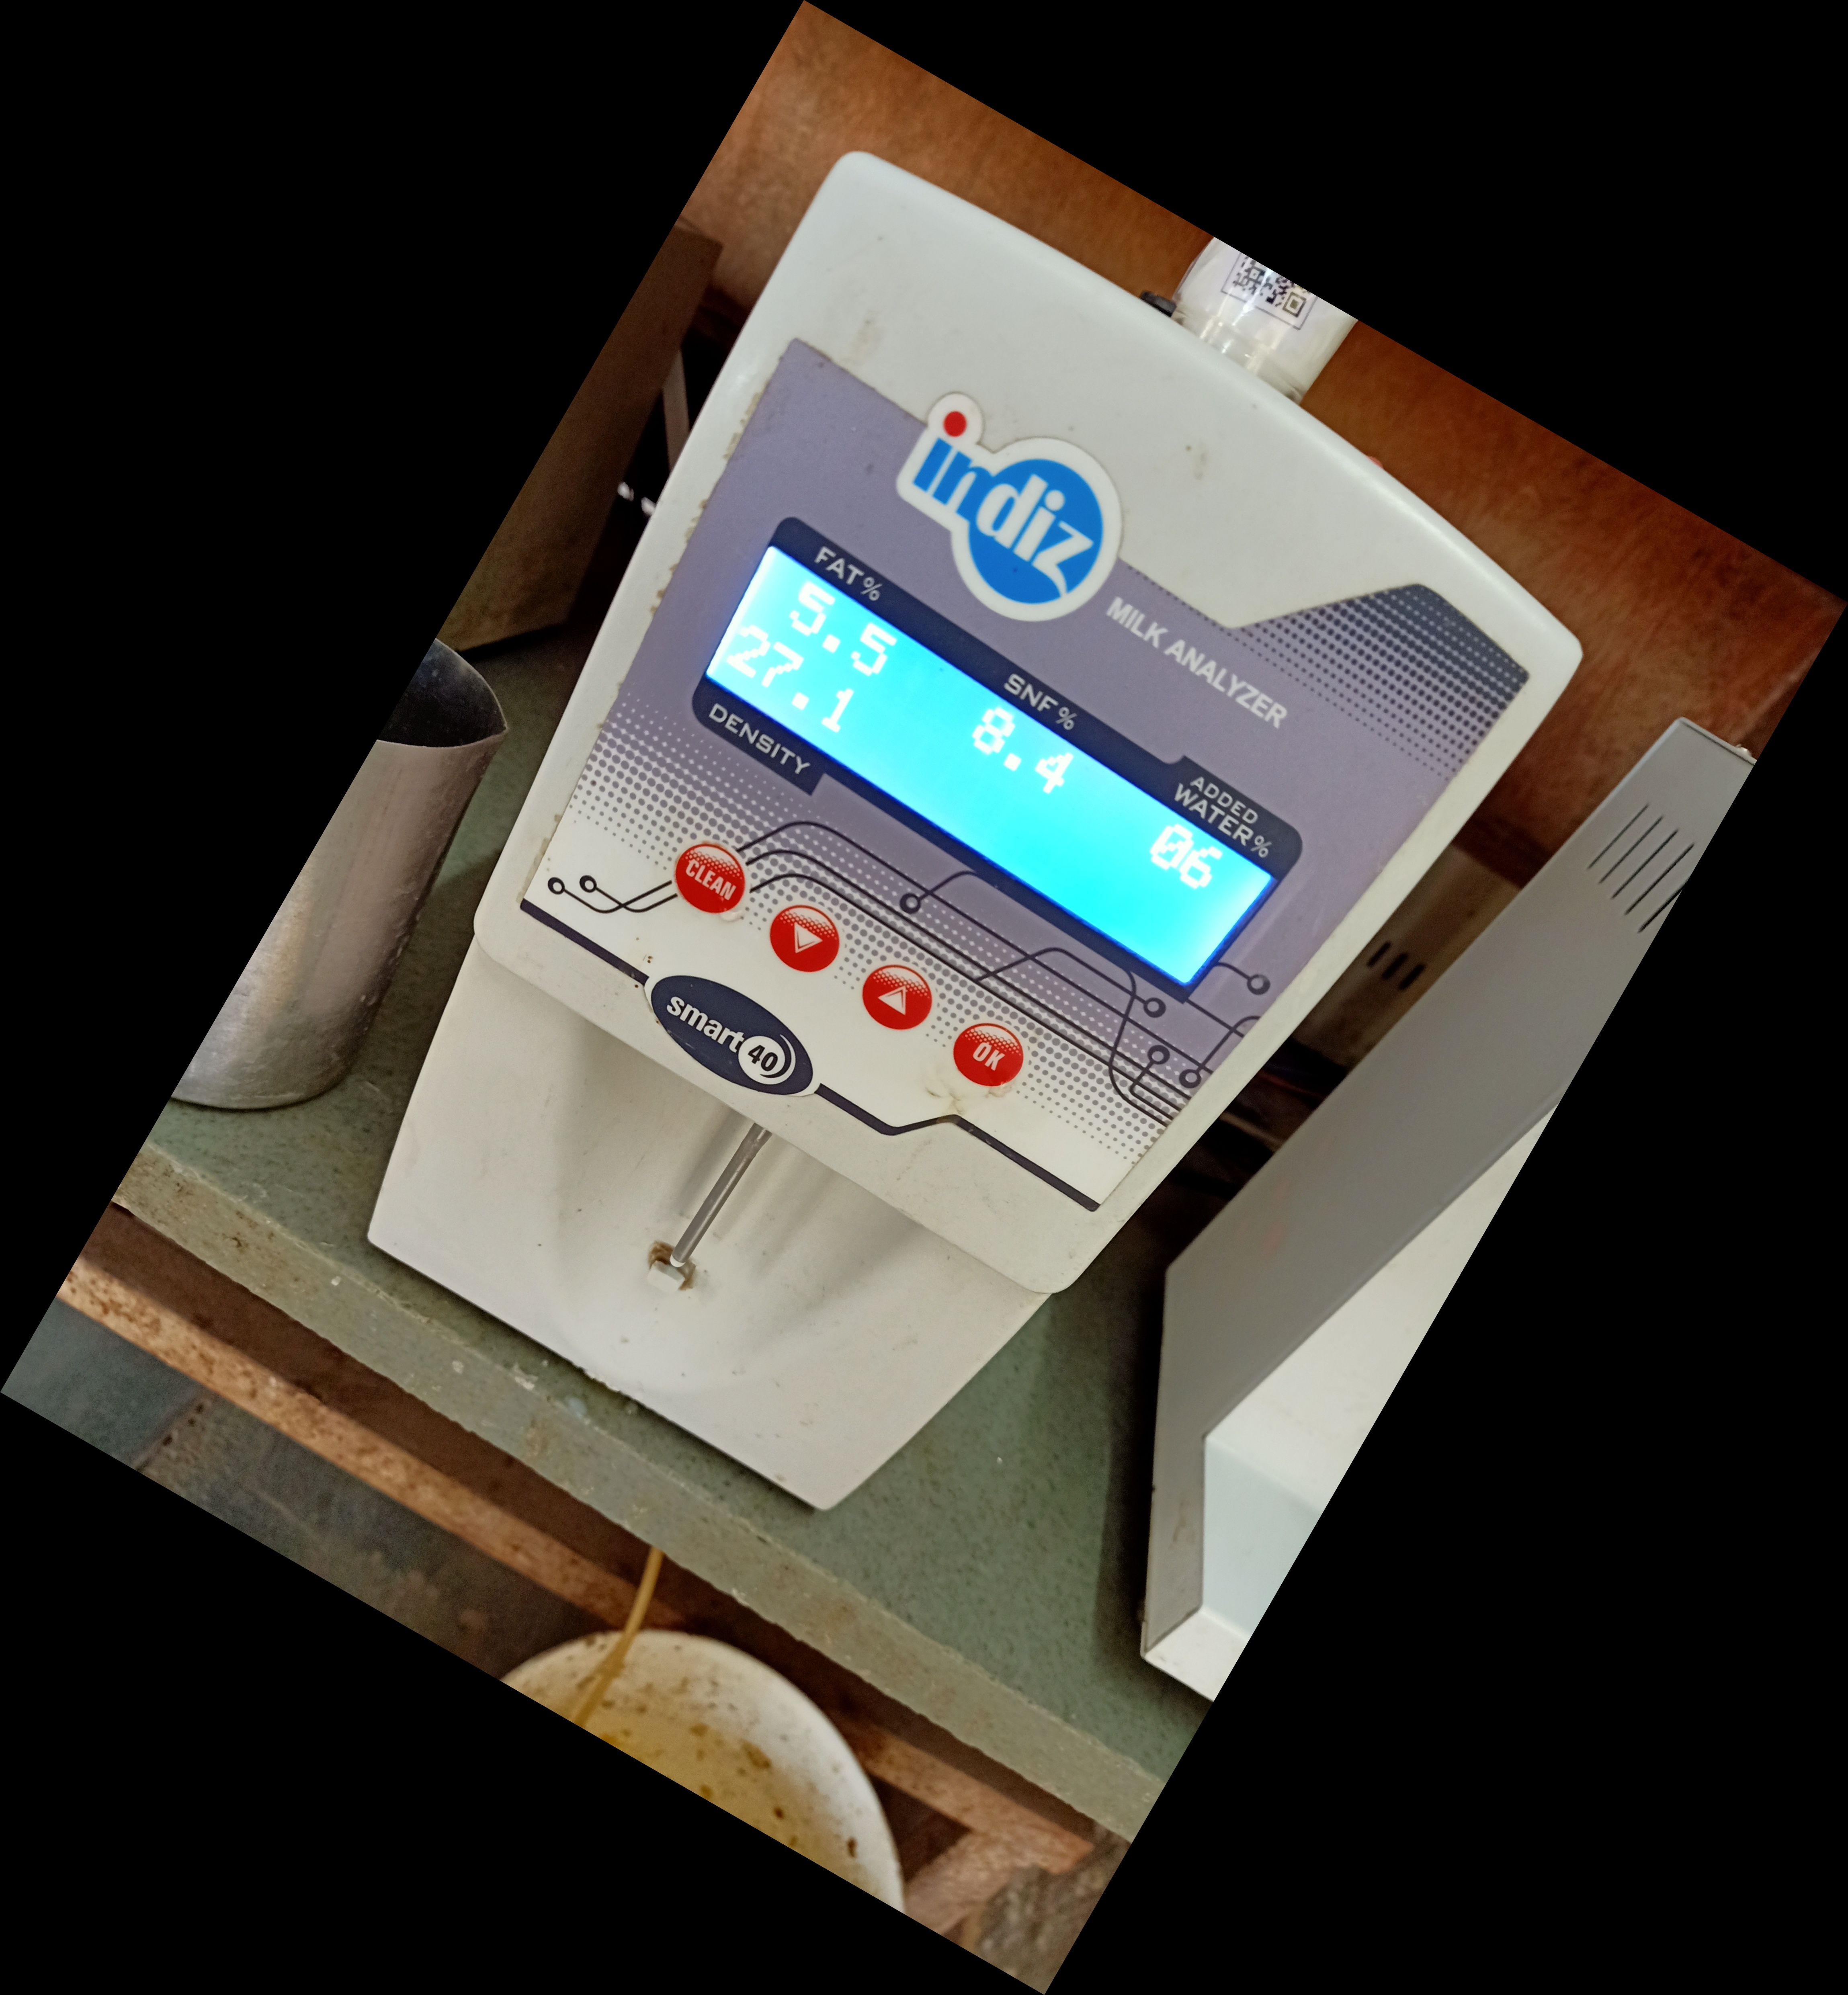lcd: (687, 497, 1306, 1013)
